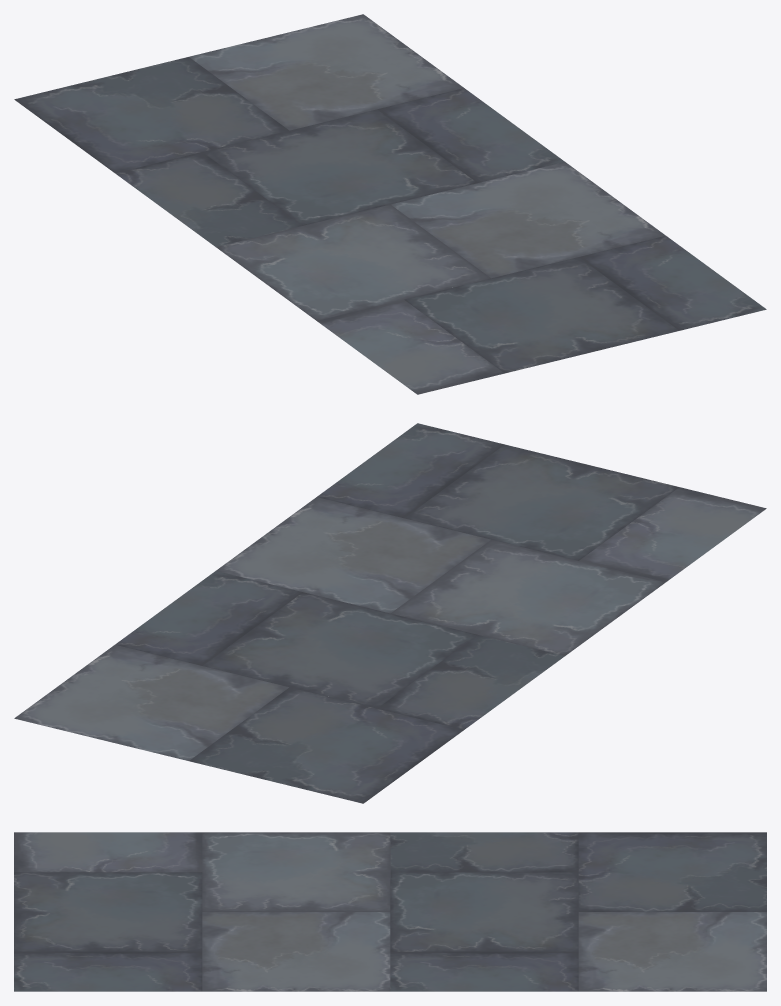
The model's file is Castle Ground X Mix 4x2.fbx.
The picture shows the model from 3 angles, top to bottom: view 1: azimuth 30°, elevation 25°; view 2: azimuth 150°, elevation 25°; view 3: azimuth 270°, elevation 25°; orthographic projection. The views are drawn at different scales.
Visible parts, largest first — view 1: Castle Ground X Mix 4x2; view 2: Castle Ground X Mix 4x2; view 3: Castle Ground X Mix 4x2.
Boxes of the visible parts, x1,y1,x2,y2 form: Castle Ground X Mix 4x2: [14, 14, 766, 394]; Castle Ground X Mix 4x2: [14, 423, 766, 803]; Castle Ground X Mix 4x2: [14, 832, 766, 991].
Size of the model in its own units: 1.5 by 1.04e-06 by 3.
